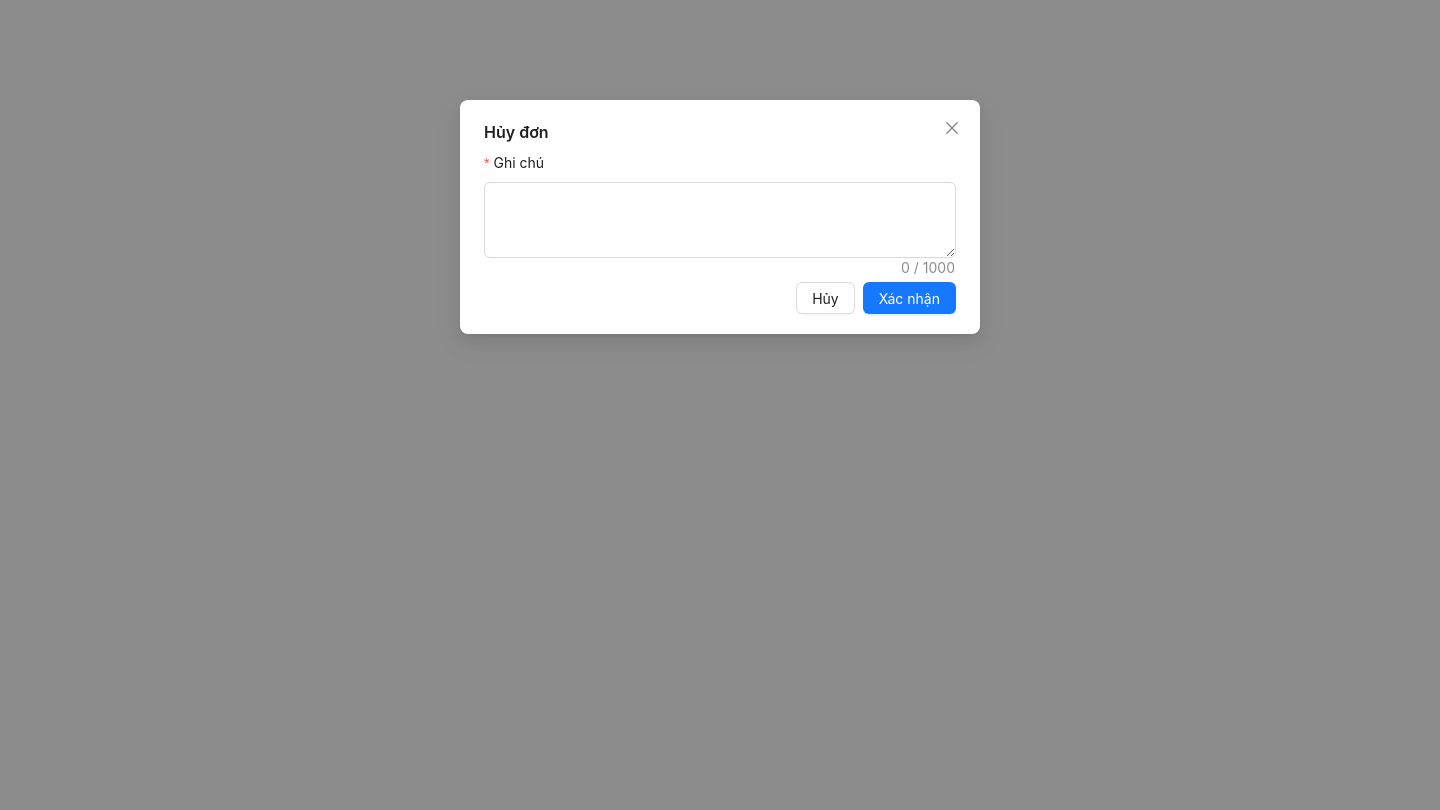
NoteModal › bắt buộc nhập: để trống thì báo MSG09 và không gửi
Click the button "Xác nhận" at [909, 298], box [863,282,956,314]
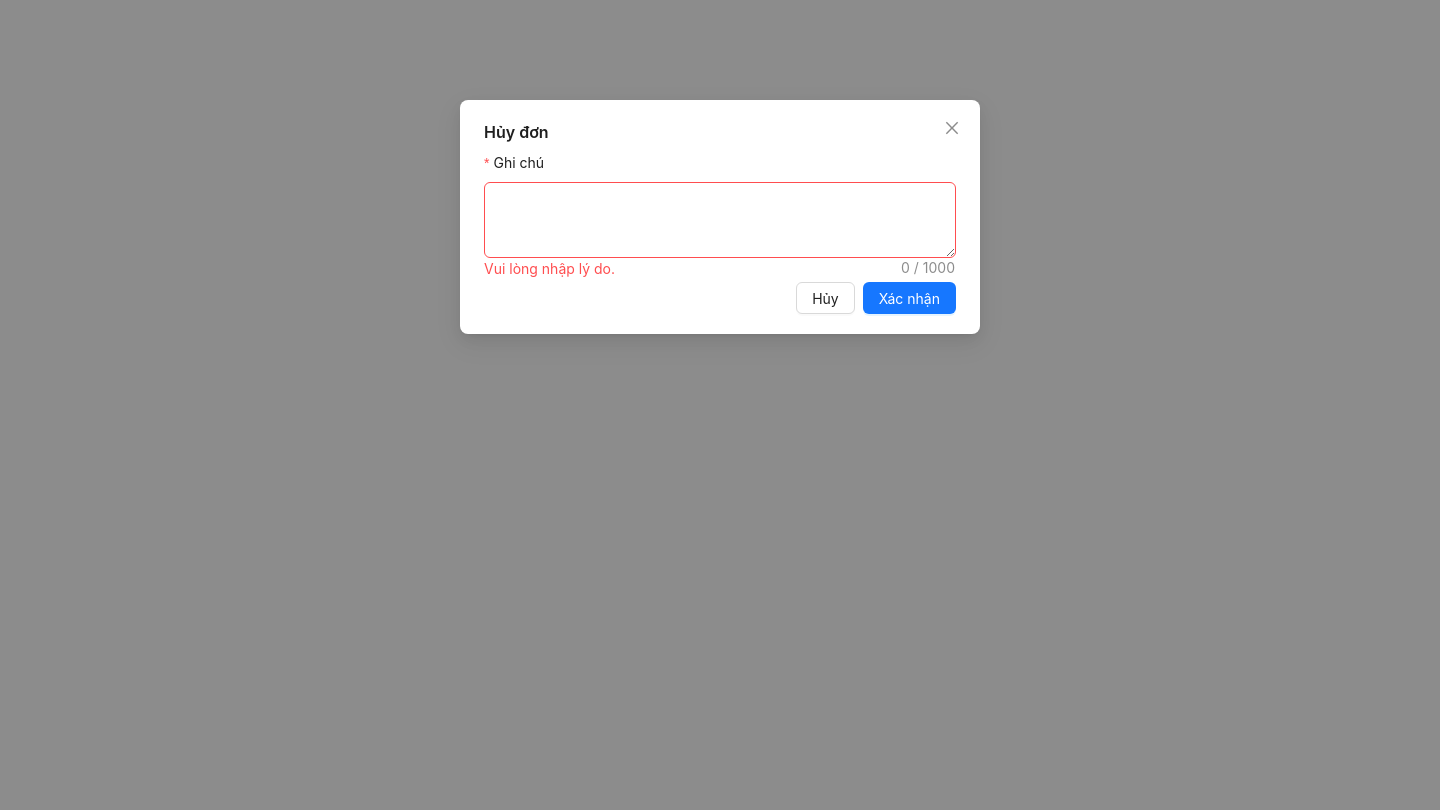
Expected: the text "Vui lòng nhập lý do." is shown, [484,260,615,277]
